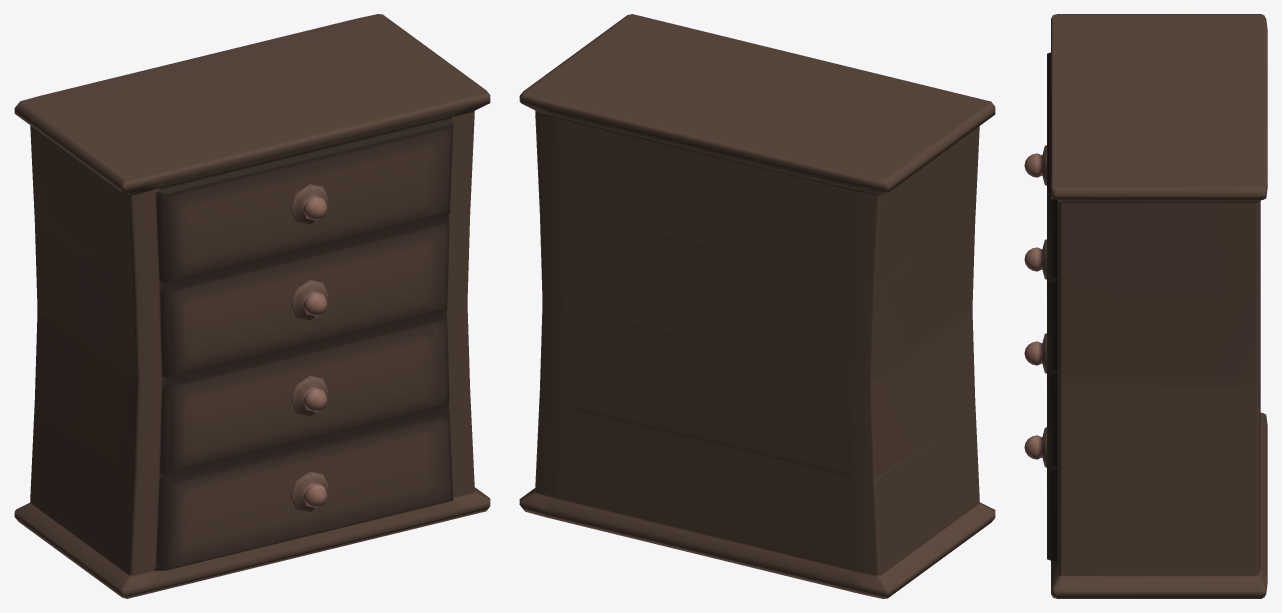
Rendered from Tallboy_1.fbx.
3 renders of one model, left to right at view 1: azimuth 30°, elevation 25°; view 2: azimuth 150°, elevation 25°; view 3: azimuth 270°, elevation 25°, orthographic.
Visible parts, largest first — view 1: Tallboy; view 2: Tallboy; view 3: Tallboy.
Boxes of the visible parts, left/top/right/bottom form: Tallboy: left=14, top=14, right=490, bottom=598; Tallboy: left=519, top=14, right=995, bottom=598; Tallboy: left=1024, top=14, right=1267, bottom=598.
Bounding box in the file's own units: 6.35 × 6.86 × 3.68.
